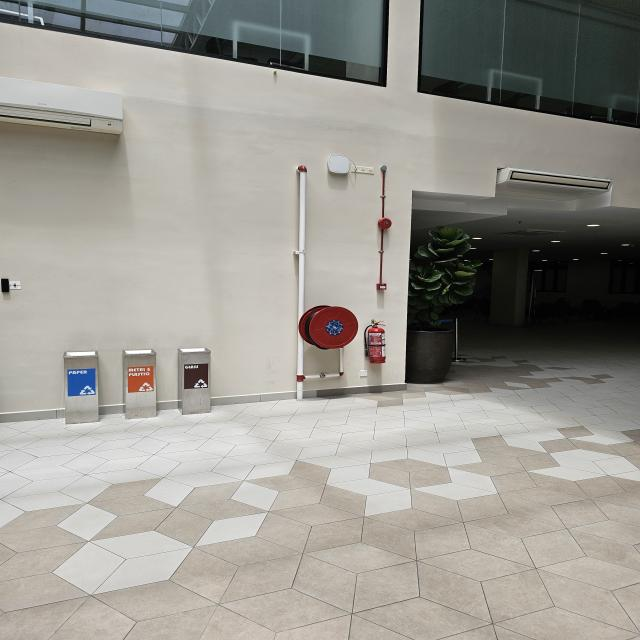footpath: (1, 419, 638, 639)
obstacle: (286, 301, 398, 387), (58, 352, 106, 423), (121, 346, 162, 417), (178, 344, 215, 411)
